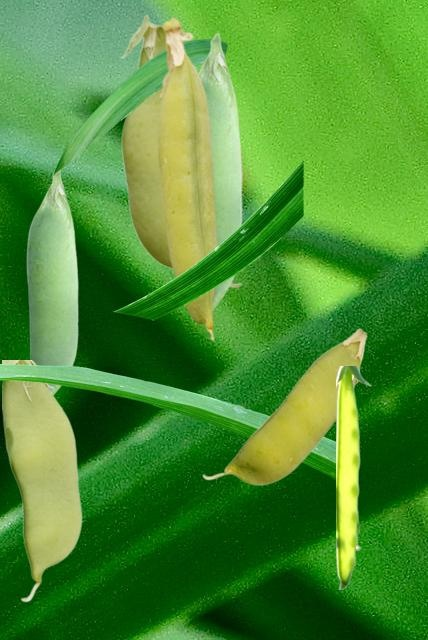pea: (119, 14, 242, 287), (202, 328, 366, 484), (157, 16, 218, 340), (2, 360, 81, 601), (199, 32, 241, 308), (26, 171, 77, 394), (336, 366, 370, 588)
